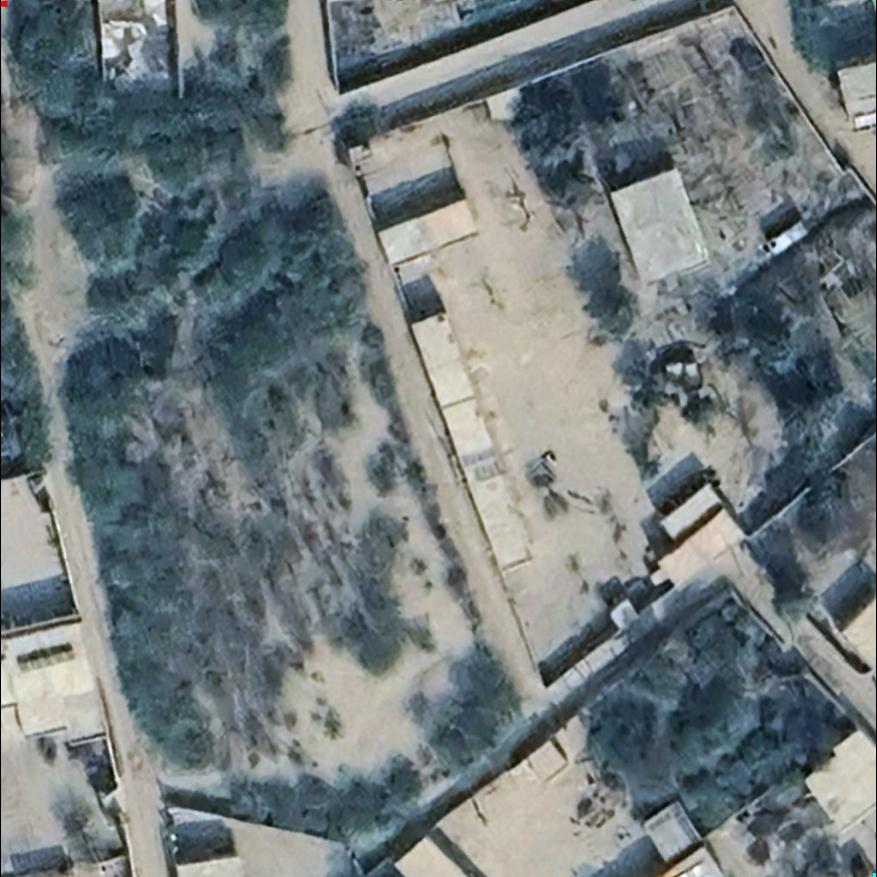Solarpanel: (13, 639, 79, 679), (453, 444, 511, 489)
